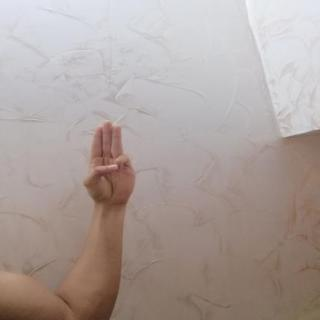THA: (75, 116, 140, 211)
